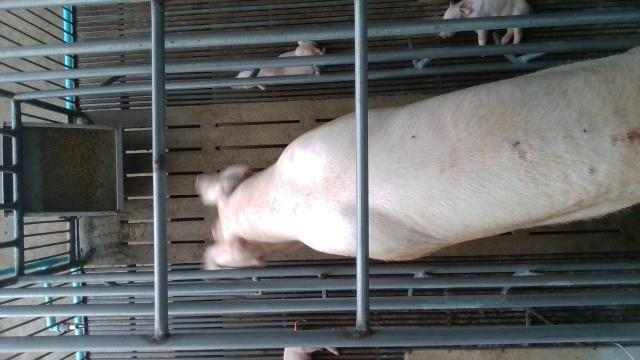piglet: (232, 40, 327, 89), (440, 0, 534, 45), (283, 320, 340, 360)
sow-stand: (195, 43, 640, 282)
